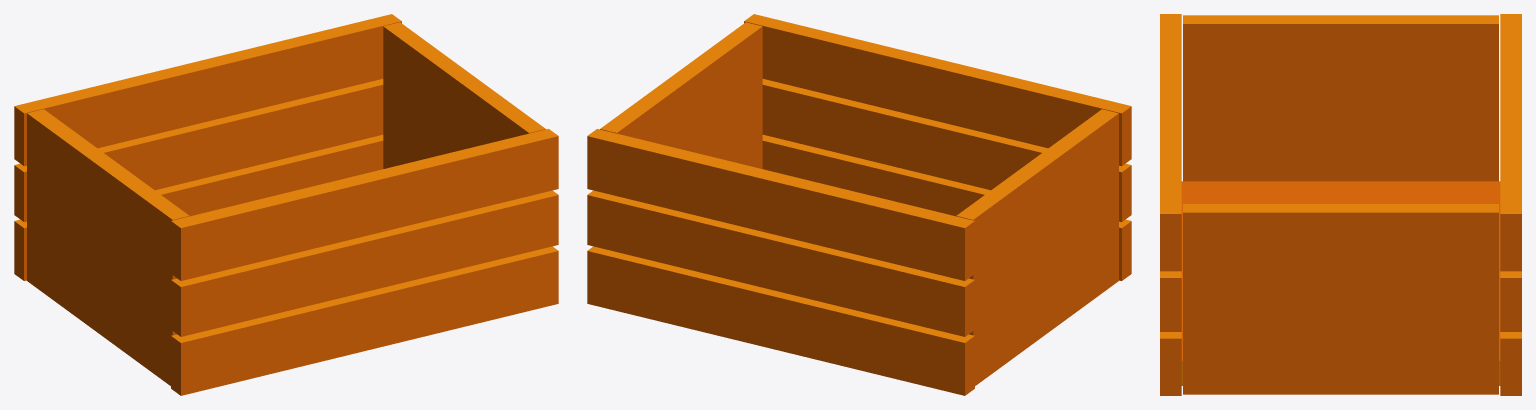
The model's file is woodBacket.fbx.
3 renders of one model, left to right at view 1: azimuth 30°, elevation 25°; view 2: azimuth 150°, elevation 25°; view 3: azimuth 270°, elevation 25°, orthographic. The views are drawn at different scales.
Visible parts, largest first — view 1: 平面.001; view 2: 平面.001; view 3: 平面.001.
Boxes of the visible parts, x1,y1,x2,y2 form: 平面.001: (14,14,558,395); 平面.001: (587,14,1131,395); 平面.001: (1160,14,1521,395).
Size of the model in its own units: 111 by 47.24 by 85.1.
